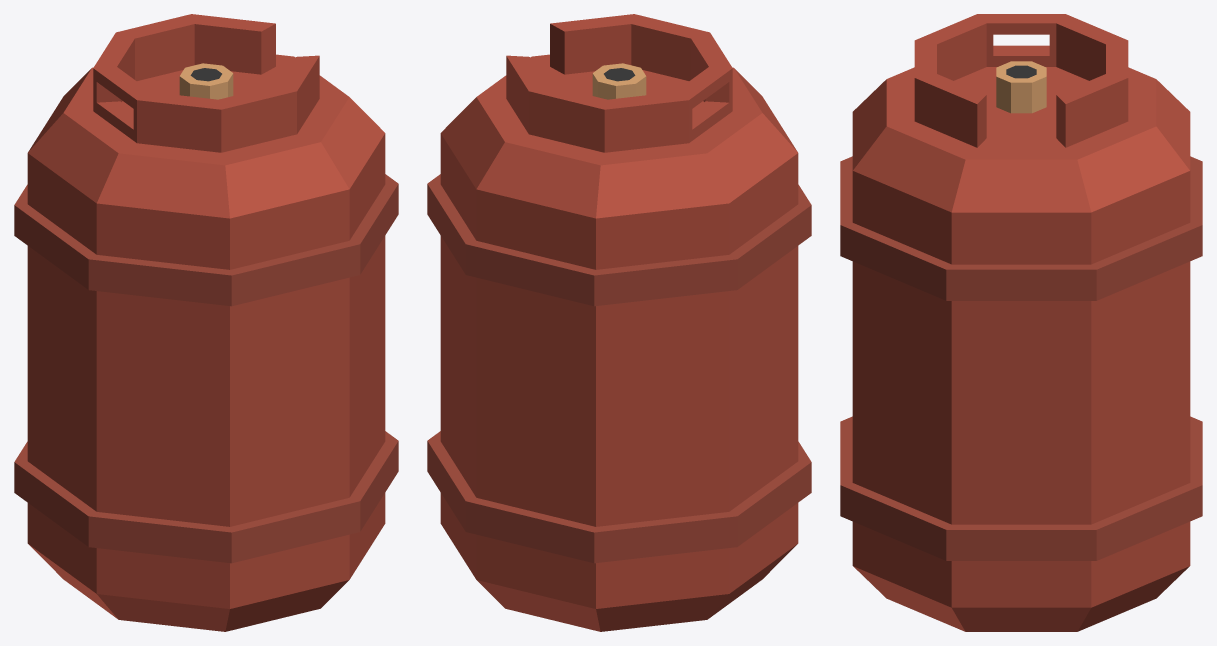
The model's file is Gas_02.fbx.
The picture shows the model from 3 angles, left to right: view 1: azimuth 30°, elevation 25°; view 2: azimuth 150°, elevation 25°; view 3: azimuth 270°, elevation 25°; orthographic projection.
Parts seen in each view (by area): view 1: Gas_02; view 2: Gas_02; view 3: Gas_02.
Boxes of the visible parts, box(x1,y1,x2,y2) form: Gas_02: box(14, 14, 398, 631); Gas_02: box(427, 14, 811, 631); Gas_02: box(840, 14, 1202, 631).
Size of the model in its own units: 32.58 by 51.16 by 32.58.
